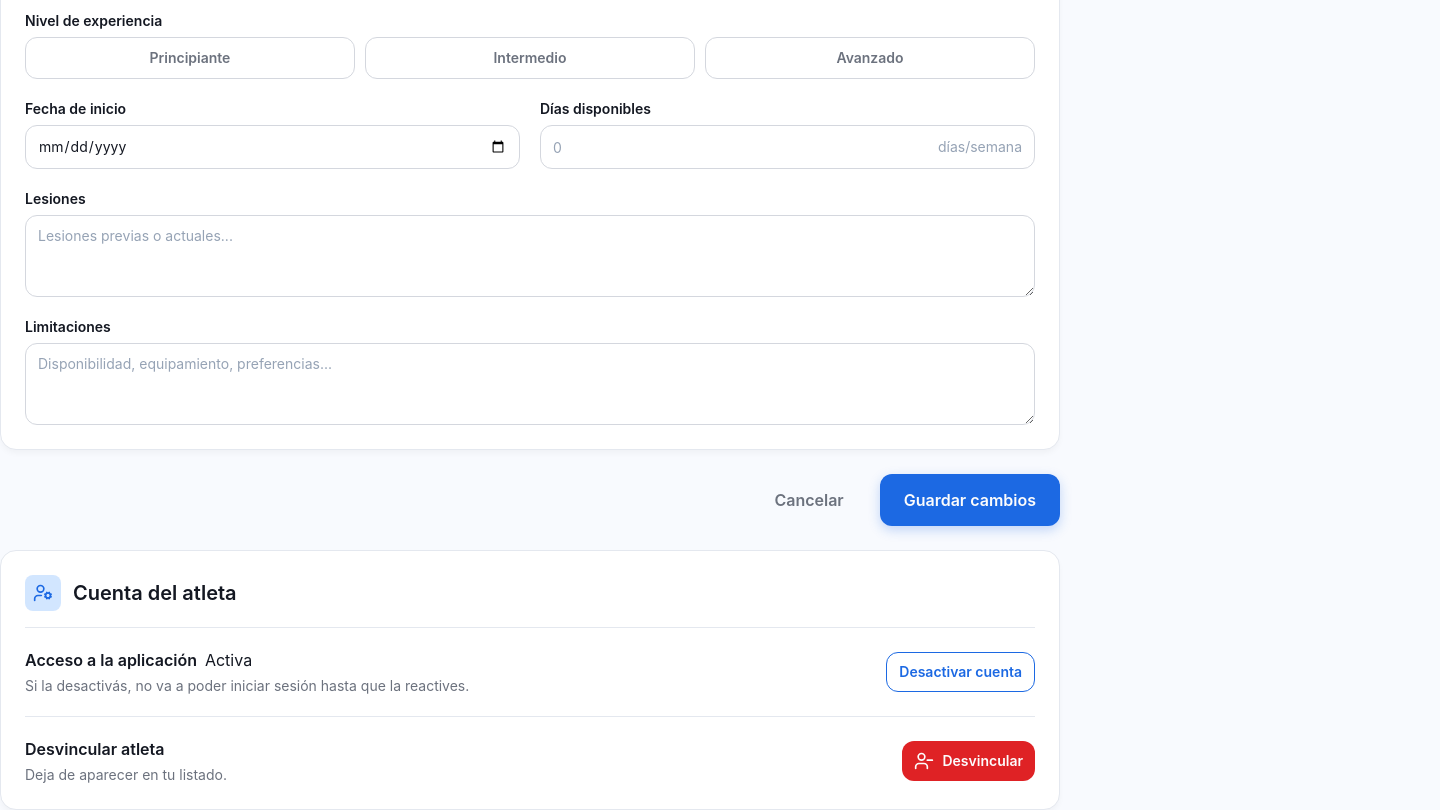
Test case: EditAthletePage › muestra el error de una acción de la cuenta
(page scrolled)
Click the button "Desvincular": (969, 761) [902,741,1035,781]
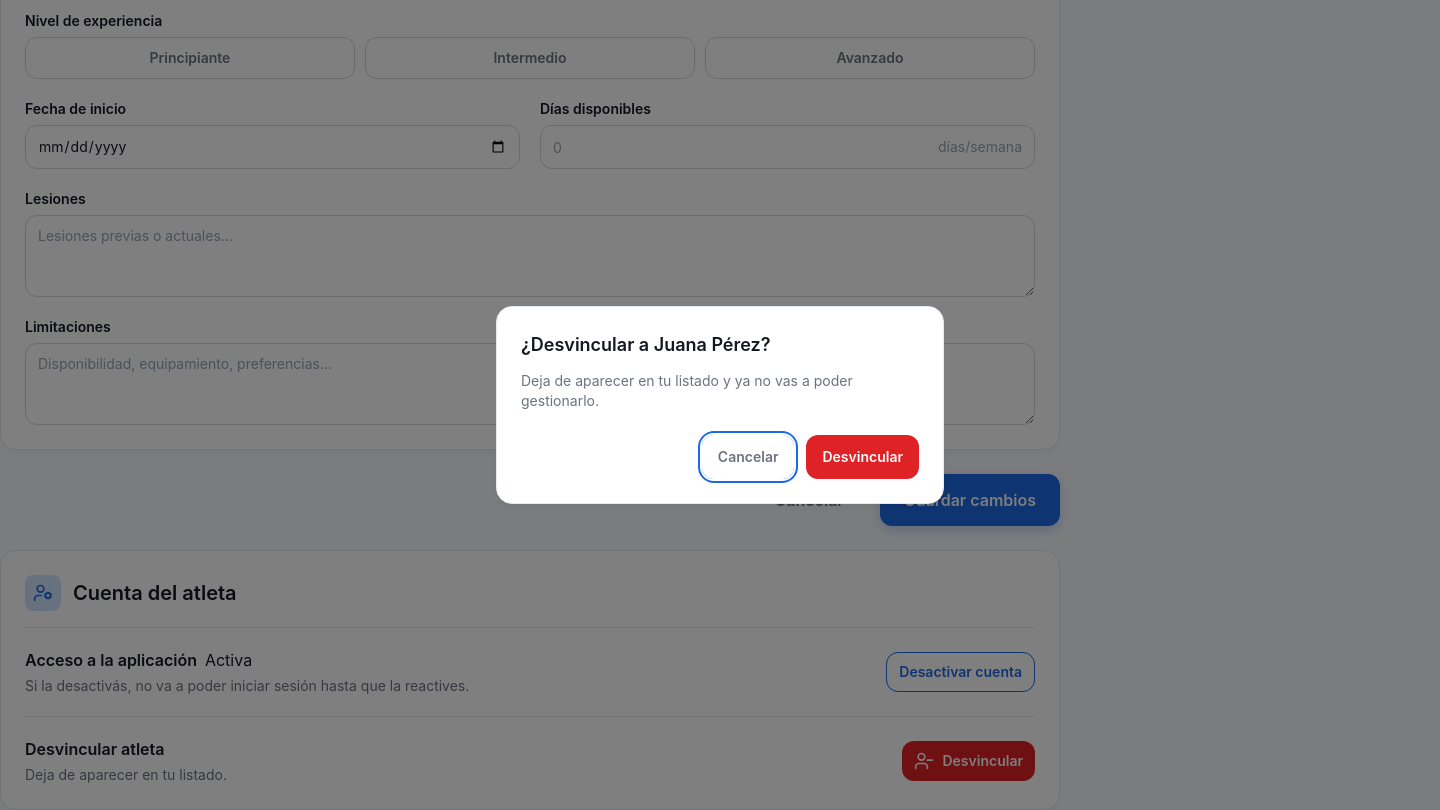
Click the button "Desvincular": (863, 457) [806,435,919,479]
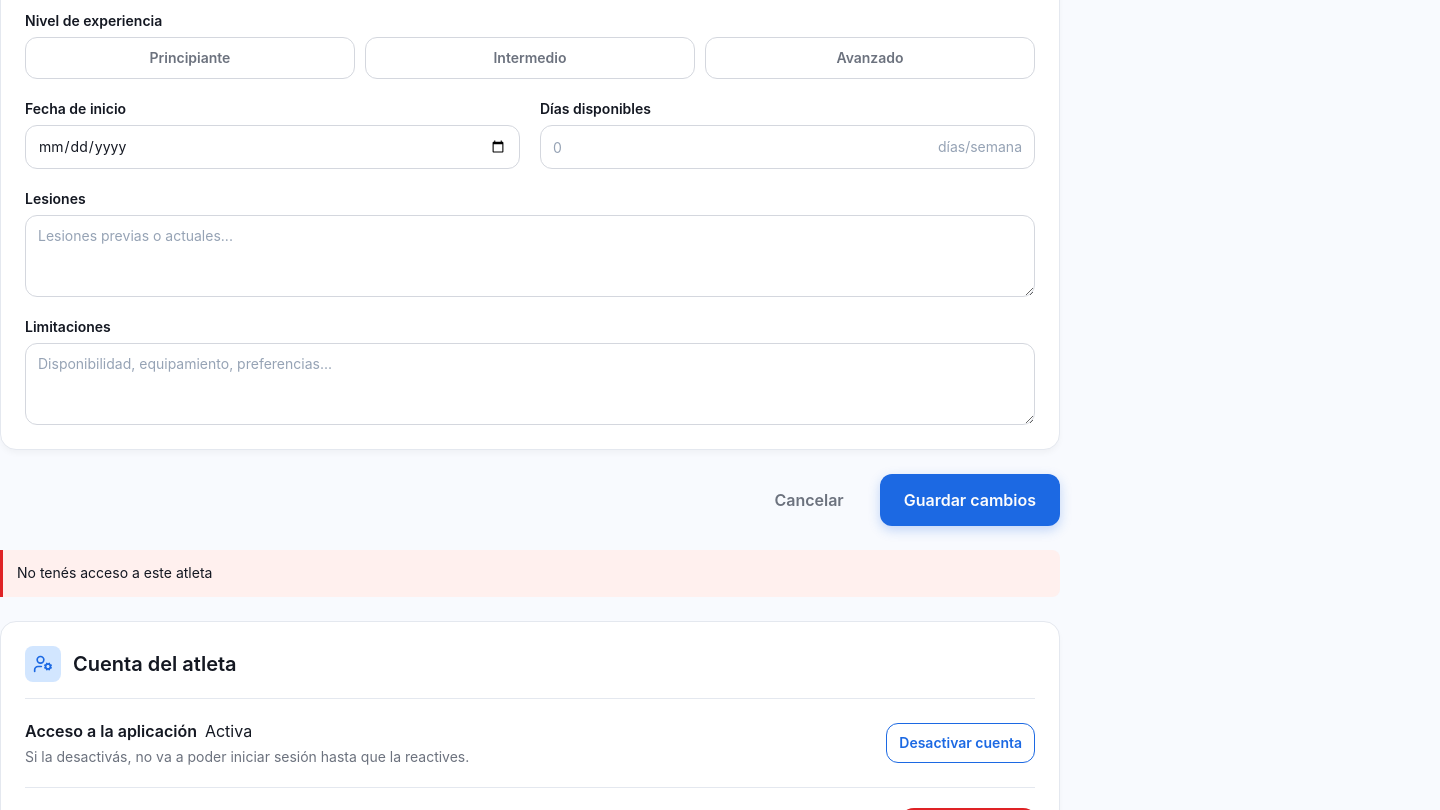
Now the message reads "No tenés acceso a este atleta", box [17,564,212,581]
Now the dialog is gone
